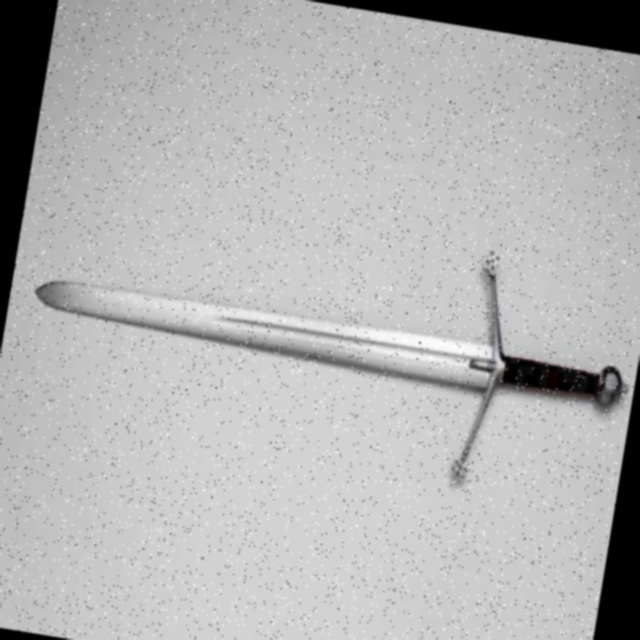Sharp-Object: (23, 255, 640, 439)
